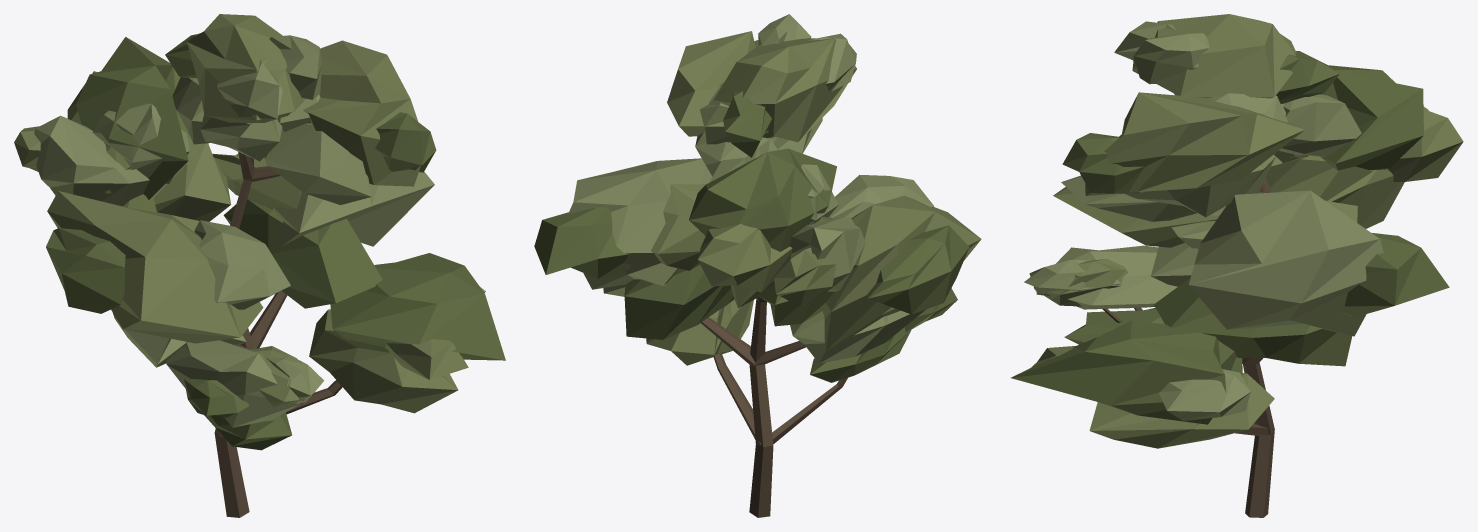
3 views of the same model, side by side, from view 1: azimuth 30°, elevation 25°; view 2: azimuth 150°, elevation 25°; view 3: azimuth 270°, elevation 25° (orthographic). The views are drawn at different scales.
Parts seen in each view (by area): view 1: open; view 2: open; view 3: open.
Part boxes in pixels (left/top/right/bottom): open: left=14, top=14, right=505, bottom=517; open: left=534, top=14, right=981, bottom=517; open: left=1011, top=14, right=1463, bottom=517.
Bounding box in the file's own units: 16.89 × 20.56 × 17.1.
